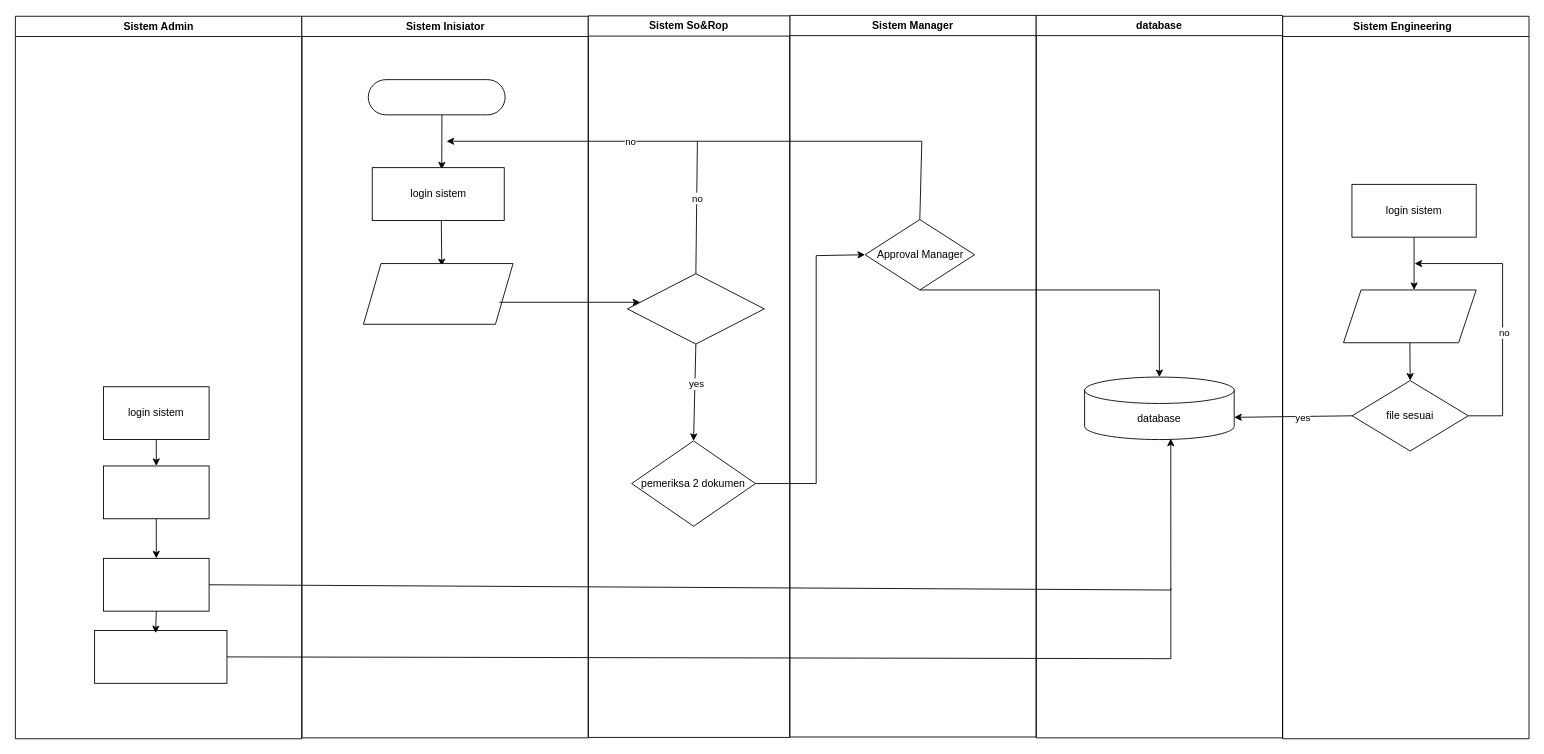
Some shapes in this 1544 by 754 pixel diagram are drawn without their labels. The shapes that lost their labels are listed below. From the top down, each one's centre as x and y in pixels, then its label:
At pixel 436 97: "Mulai".
At pixel 438 293: "input dokumen".
At pixel 695 308: "pemeriksa 1 dokumen".
At pixel 1409 316: "input attachment ECP".
At pixel 156 492: "create user".
At pixel 156 584: "simpan user".
At pixel 160 656: "control sistem & database".
